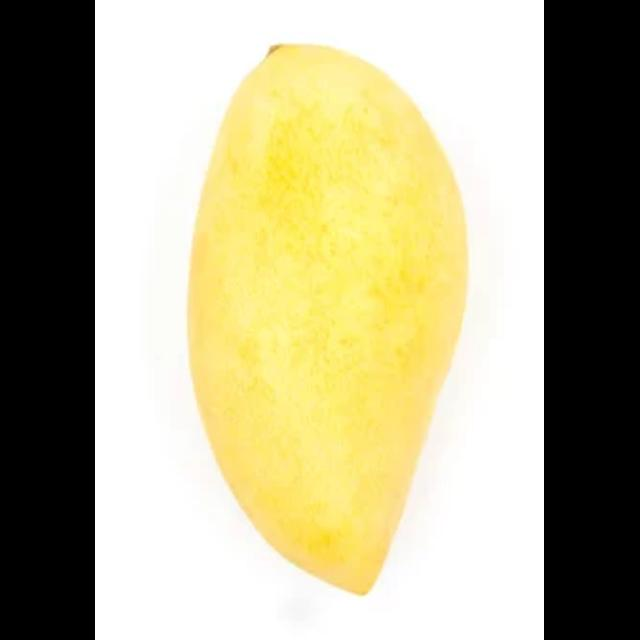mango: (184, 36, 468, 595)
